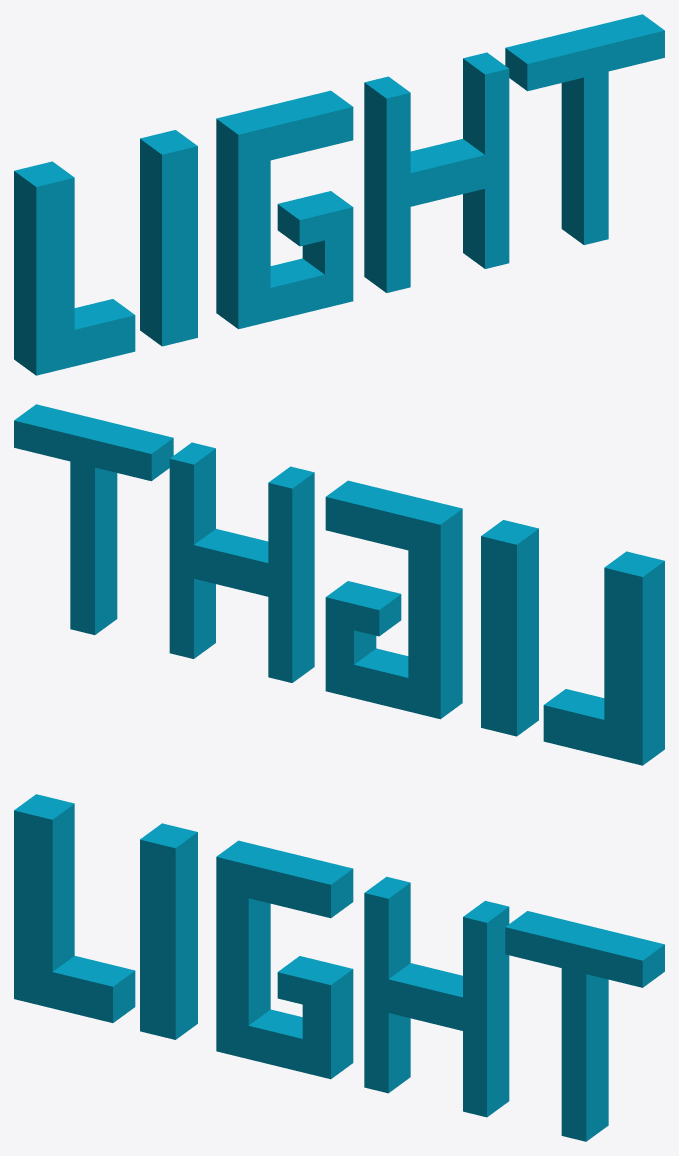
File: light.fbx
The picture shows the model from 3 angles, top to bottom: view 1: azimuth 30°, elevation 25°; view 2: azimuth 150°, elevation 25°; view 3: azimuth 330°, elevation 25°; orthographic projection.
Parts seen in each view (by area): view 1: pCube7; view 2: pCube7; view 3: pCube7.
Boxes of the visible parts, x1=… form: pCube7: x1=14, y1=14, x2=664, y2=375; pCube7: x1=14, y1=404, x2=664, y2=765; pCube7: x1=14, y1=794, x2=664, y2=1141.
Bounding box in the file's own units: 16.31 × 4.83 × 1.
